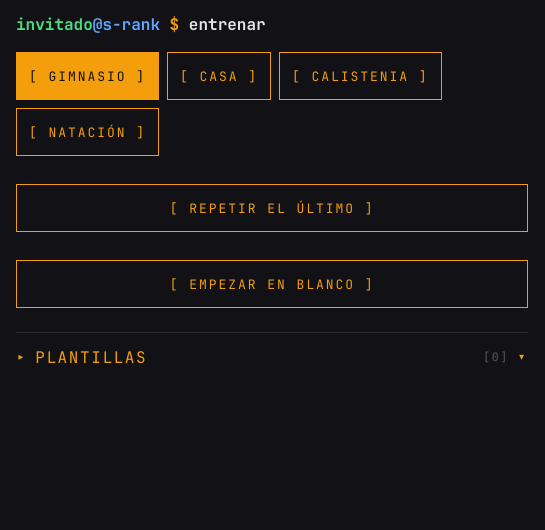
Test: sin un entreno anterior de ese modo se dice en español y no se rompe nada
The image size is (545, 530).
Click the button "[ REPETIR EL ÚLTIMO ]" at (272, 208), box [16, 184, 528, 232]
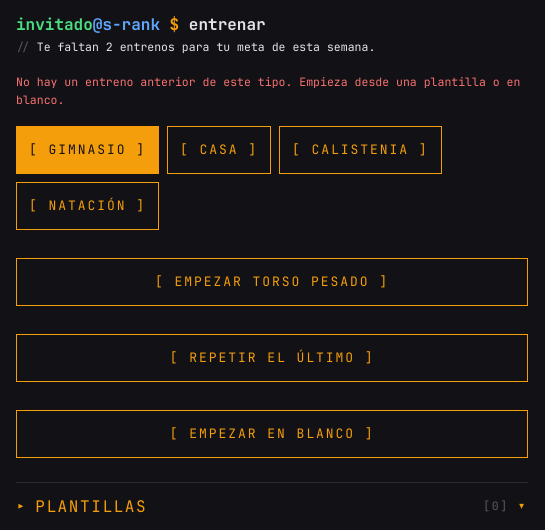
Expected: the message shows "No hay un entreno anterior", [16, 74, 520, 107]
